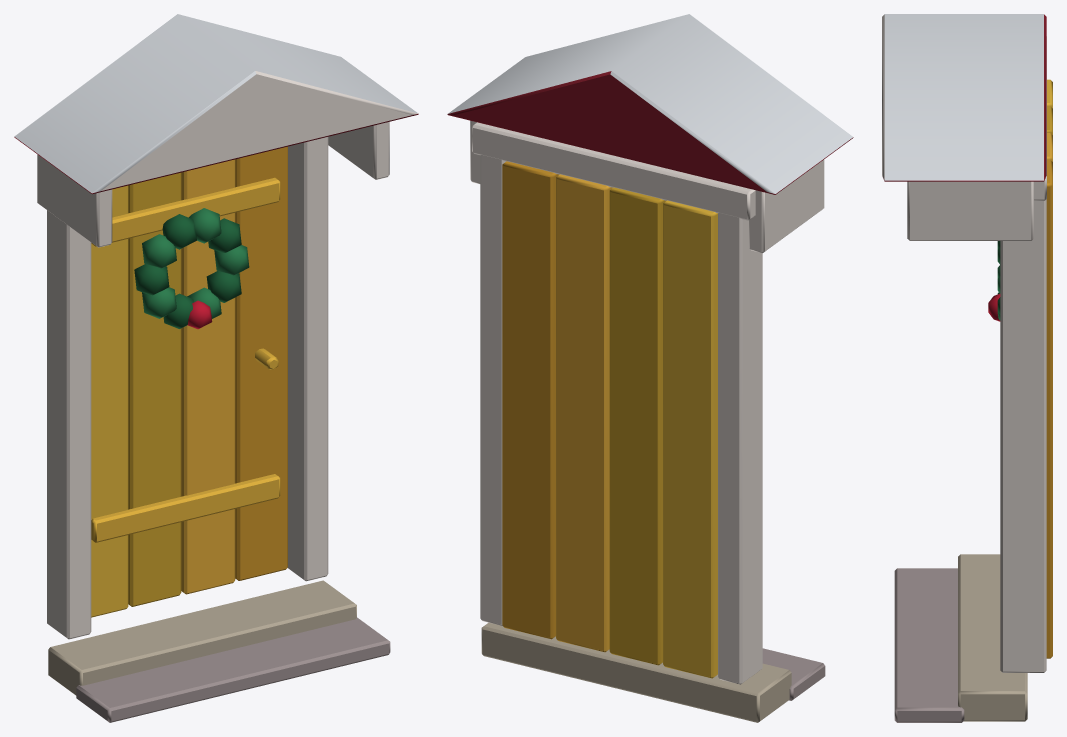
The model's file is CandyHouse_Bungalow_Door.glb.
3 renders of one model, left to right at view 1: azimuth 30°, elevation 25°; view 2: azimuth 150°, elevation 25°; view 3: azimuth 270°, elevation 25°, orthographic. The views are drawn at different scales.
Parts seen in each view (by area): view 1: CandyHouse_Bungalow_Door; view 2: CandyHouse_Bungalow_Door; view 3: CandyHouse_Bungalow_Door.
Boxes of the visible parts, x1,y1,x2,y2 form: CandyHouse_Bungalow_Door: [14, 14, 418, 722]; CandyHouse_Bungalow_Door: [447, 14, 853, 722]; CandyHouse_Bungalow_Door: [882, 14, 1052, 722].
Bounding box in the file's own units: 6.13 × 11.16 × 2.7.
